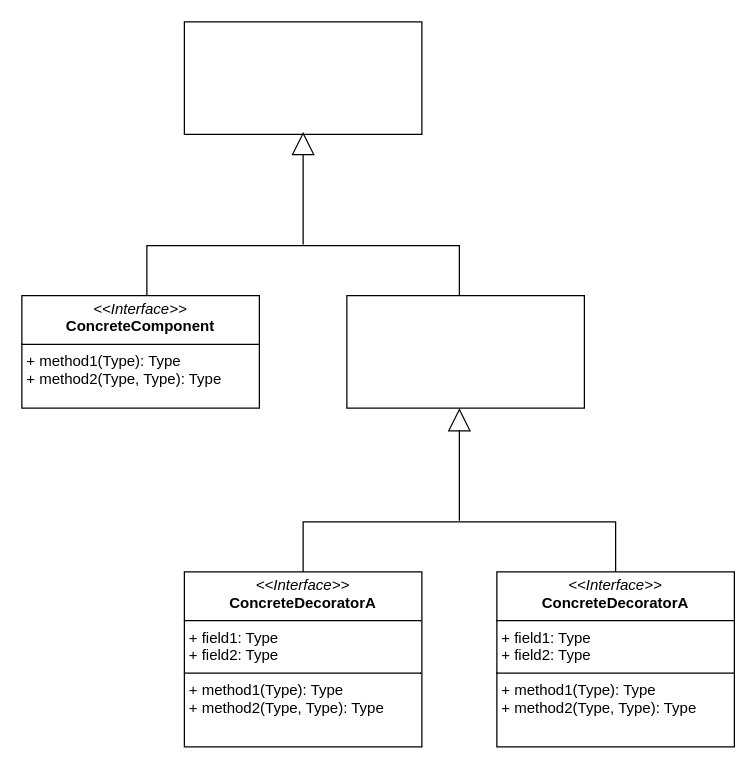
Image size: 756x769. Some labels were removed from this diagram. Here are the shapes that lost their labels. From the top down, the centre of each, then its label:
At point 302,77: "<<Interface>> Component + method1(Type): Type + method2(Type, Type): Type".
At point 465,351: "<<Interface>> Decorator + method1(Type): Type + method2(Type, Type): Type".
